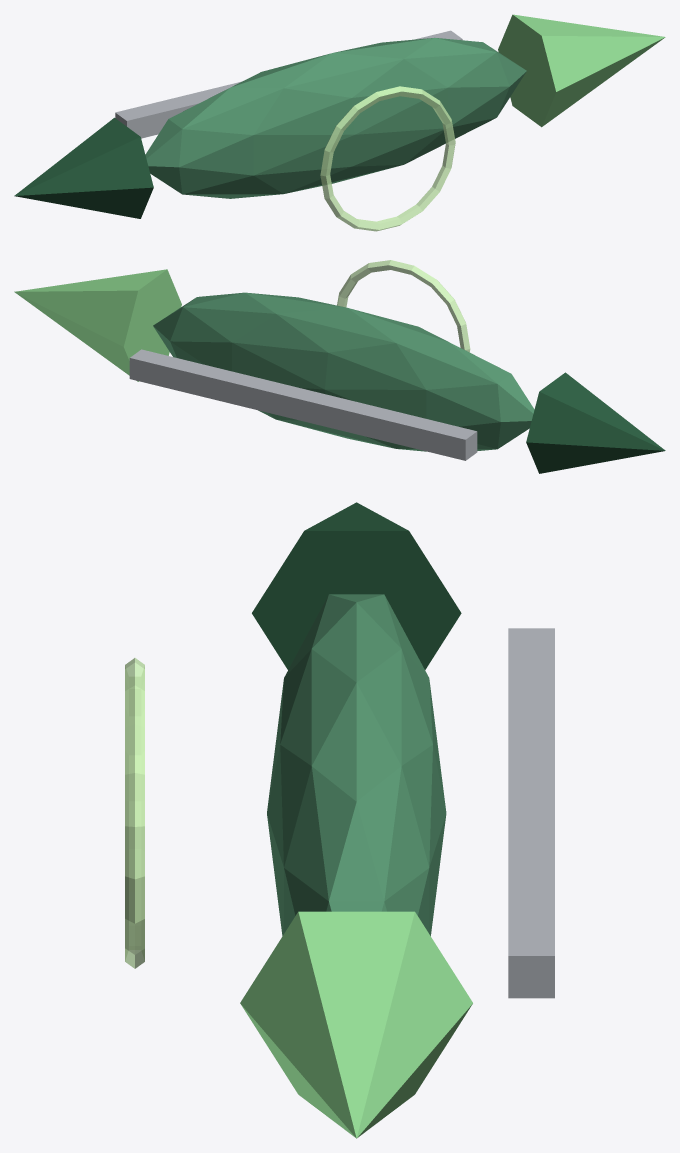
Rendered from 05_skyship_hull.glb.
3 renders of one model, top to bottom at view 1: azimuth 30°, elevation 25°; view 2: azimuth 150°, elevation 25°; view 3: azimuth 270°, elevation 25°, orthographic. The views are drawn at different scales.
Parts seen in each view (by area): view 1: hull_low_poly, bow_upgrade, stern_fin, size_class_ring, keel_plate; view 2: hull_low_poly, keel_plate, bow_upgrade, stern_fin, size_class_ring; view 3: hull_low_poly, bow_upgrade, keel_plate, stern_fin, size_class_ring.
Boxes of the visible parts, <box> form: hull_low_poly: <box>145,37,526,198</box>; bow_upgrade: <box>498,14,665,127</box>; stern_fin: <box>14,117,153,218</box>; size_class_ring: <box>320,86,455,231</box>; keel_plate: <box>115,30,462,138</box>; hull_low_poly: <box>153,292,534,451</box>; keel_plate: <box>129,349,477,460</box>; bow_upgrade: <box>14,269,181,381</box>; stern_fin: <box>526,372,665,473</box>; size_class_ring: <box>337,260,470,352</box>; hull_low_poly: <box>267,594,446,935</box>; bow_upgrade: <box>240,911,472,1138</box>; keel_plate: <box>508,628,554,998</box>; stern_fin: <box>252,502,461,669</box>; size_class_ring: <box>125,658,144,968</box>.
Bounding box in the file's own units: 2.58 × 0.5279 × 0.7371.
